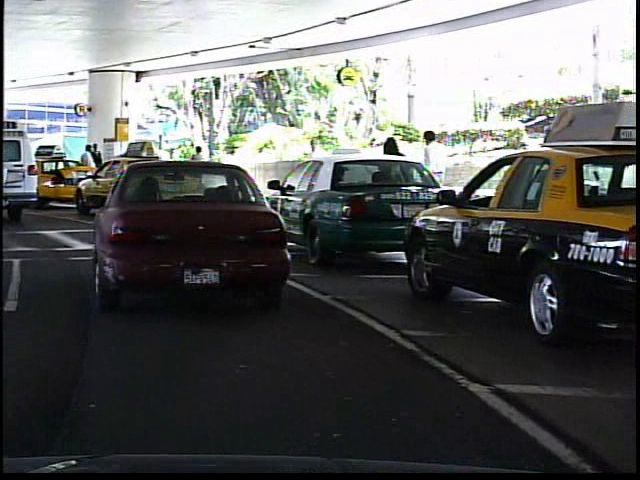person: (415, 121, 456, 227), (375, 127, 409, 227), (298, 131, 325, 203), (185, 139, 210, 190), (79, 144, 96, 197), (90, 140, 105, 193)
